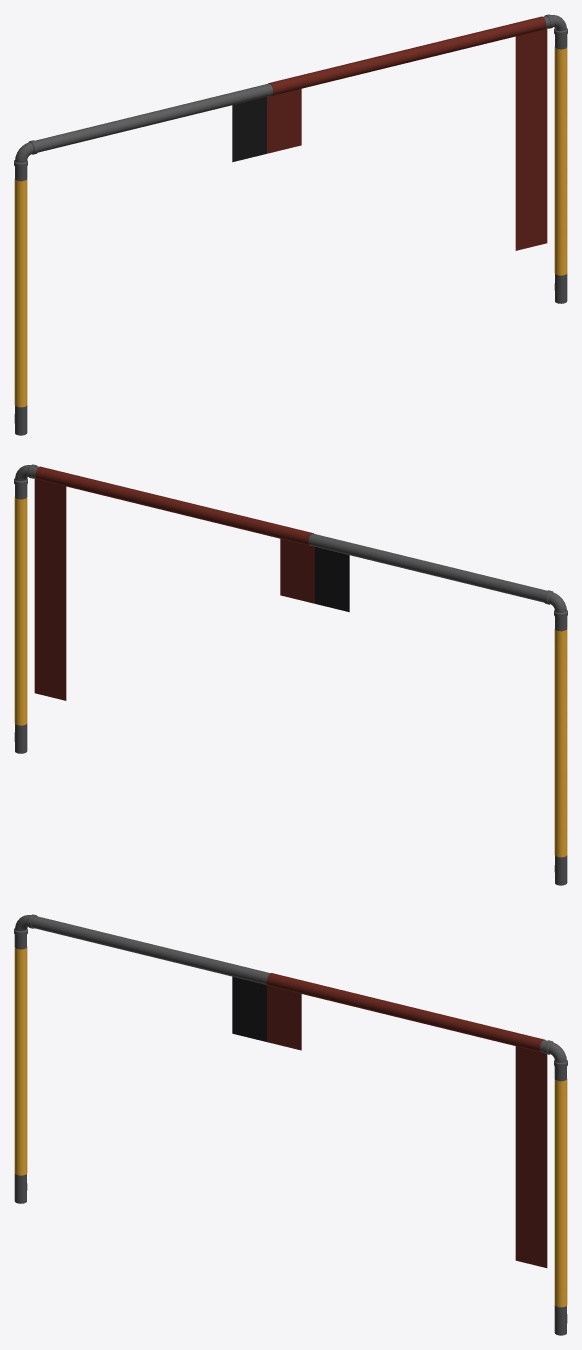
Rendered from gate.dae.
The picture shows the model from 3 angles, top to bottom: view 1: azimuth 30°, elevation 25°; view 2: azimuth 150°, elevation 25°; view 3: azimuth 330°, elevation 25°; orthographic projection.
Parts seen in each view (by area): view 1: Plane, mesh_2_Boss-Extrude2, mesh_1_2in_abs_pipe_Robosub_Validation_Gate, Cylinder, Plane_002, Plane_001; view 2: Plane, mesh_2_Boss-Extrude2, mesh_1_2in_abs_pipe_Robosub_Validation_Gate, Cylinder, Plane_002, Plane_001; view 3: Plane, mesh_2_Boss-Extrude2, mesh_1_2in_abs_pipe_Robosub_Validation_Gate, Cylinder, Plane_002, Plane_001.
Boxes of the visible parts, left/top/right/bottom form: Plane: left=515, top=28, right=547, bottom=250; mesh_2_Boss-Extrude2: left=14, top=46, right=567, bottom=407; mesh_1_2in_abs_pipe_Robosub_Validation_Gate: left=14, top=14, right=567, bottom=435; Cylinder: left=268, top=16, right=546, bottom=95; Plane_002: left=232, top=97, right=266, bottom=162; Plane_001: left=267, top=89, right=301, bottom=153; Plane: left=34, top=478, right=66, bottom=700; mesh_2_Boss-Extrude2: left=14, top=496, right=567, bottom=857; mesh_1_2in_abs_pipe_Robosub_Validation_Gate: left=14, top=464, right=567, bottom=885; Cylinder: left=35, top=466, right=313, bottom=545; Plane_002: left=315, top=547, right=349, bottom=612; Plane_001: left=280, top=539, right=314, bottom=603; Plane: left=515, top=1046, right=547, bottom=1267; mesh_2_Boss-Extrude2: left=14, top=946, right=567, bottom=1307; mesh_1_2in_abs_pipe_Robosub_Validation_Gate: left=14, top=914, right=567, bottom=1335; Cylinder: left=267, top=973, right=545, bottom=1052; Plane_002: left=232, top=976, right=266, bottom=1041; Plane_001: left=267, top=985, right=301, bottom=1050.
Size of the model in its own units: 3.12 by 0.0685 by 1.56.
